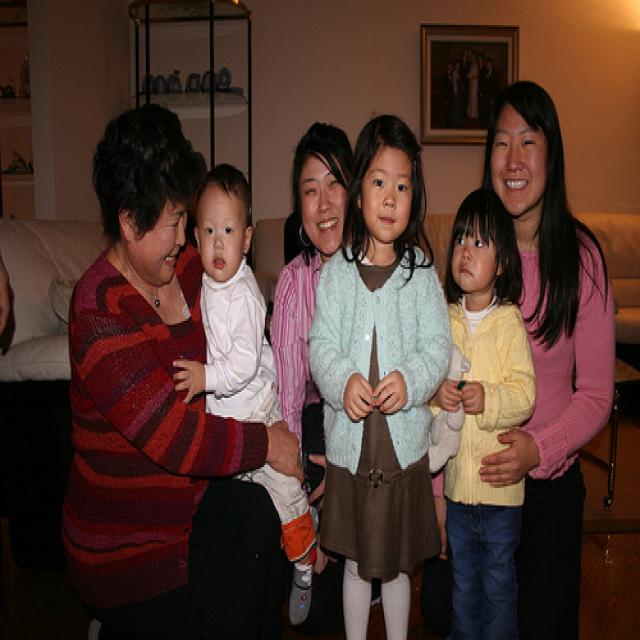adult: (72, 114, 266, 616), (455, 79, 619, 640), (265, 123, 389, 605)
child: (309, 118, 451, 640), (173, 159, 312, 627), (424, 187, 538, 640)
